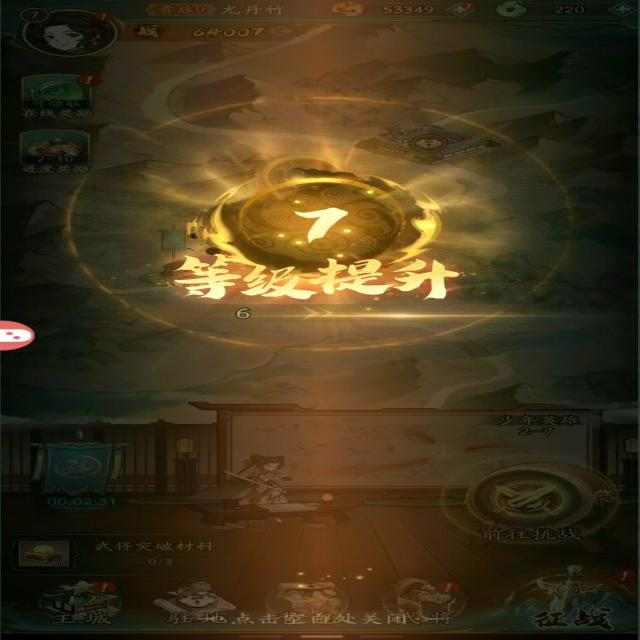hint-guide: (168, 597, 444, 631)
